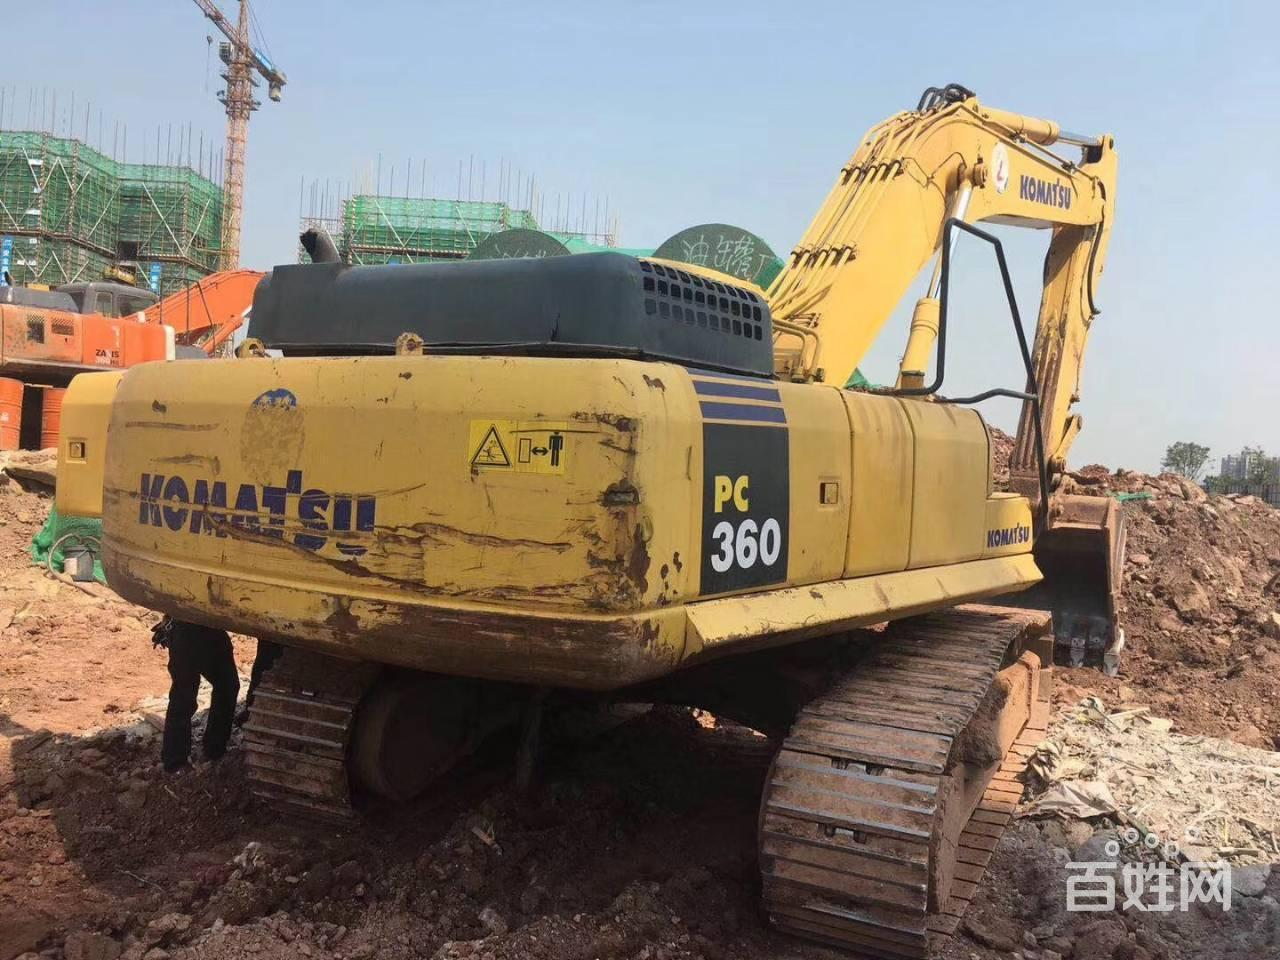excavator: (47, 79, 1165, 955)
